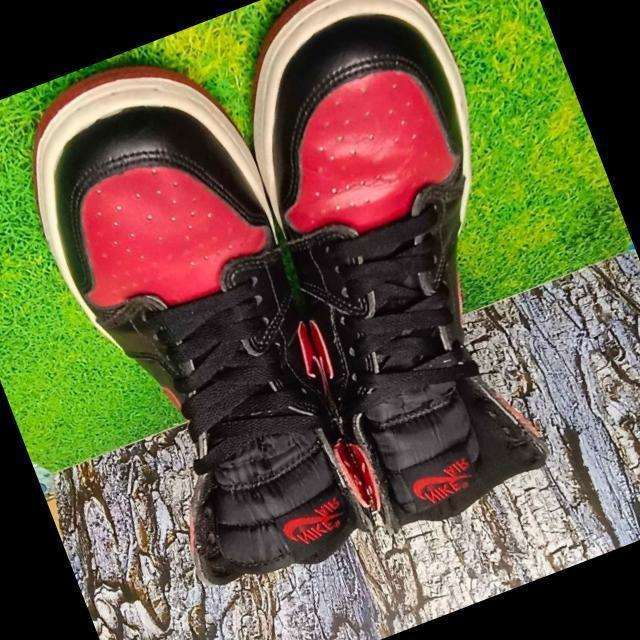nike fake jordan 1: (0, 33, 402, 626), (192, 0, 608, 541)
